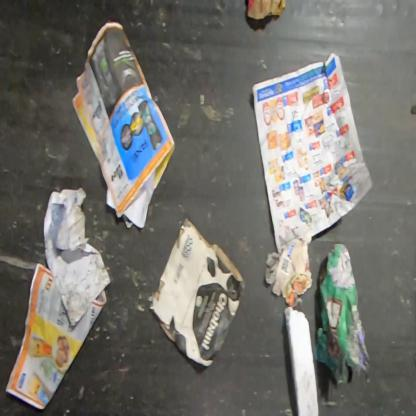cardboard: (147, 216, 246, 368), (314, 242, 372, 387), (283, 306, 320, 416), (264, 238, 314, 308), (246, 0, 287, 21)
